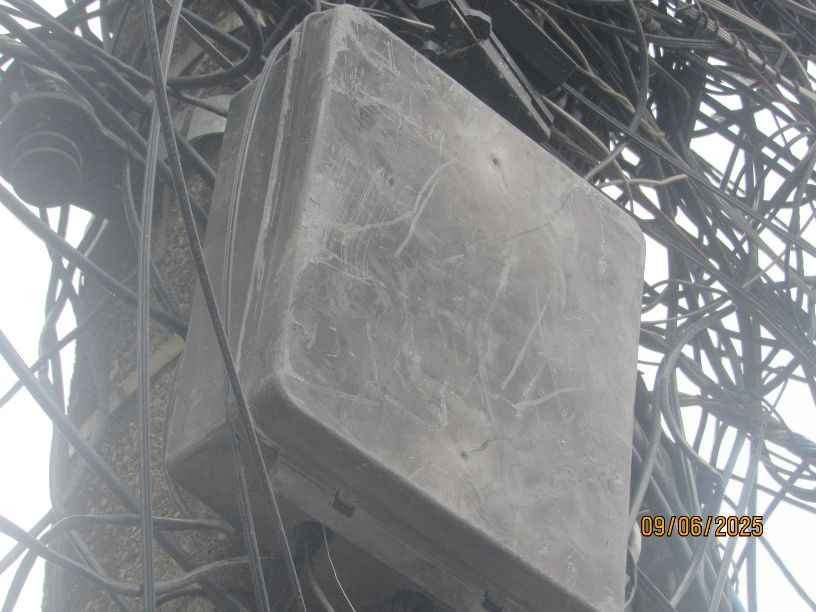caixa_derivacao: (164, 6, 649, 612)
